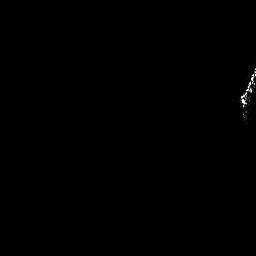ship: (235, 63, 256, 124)
